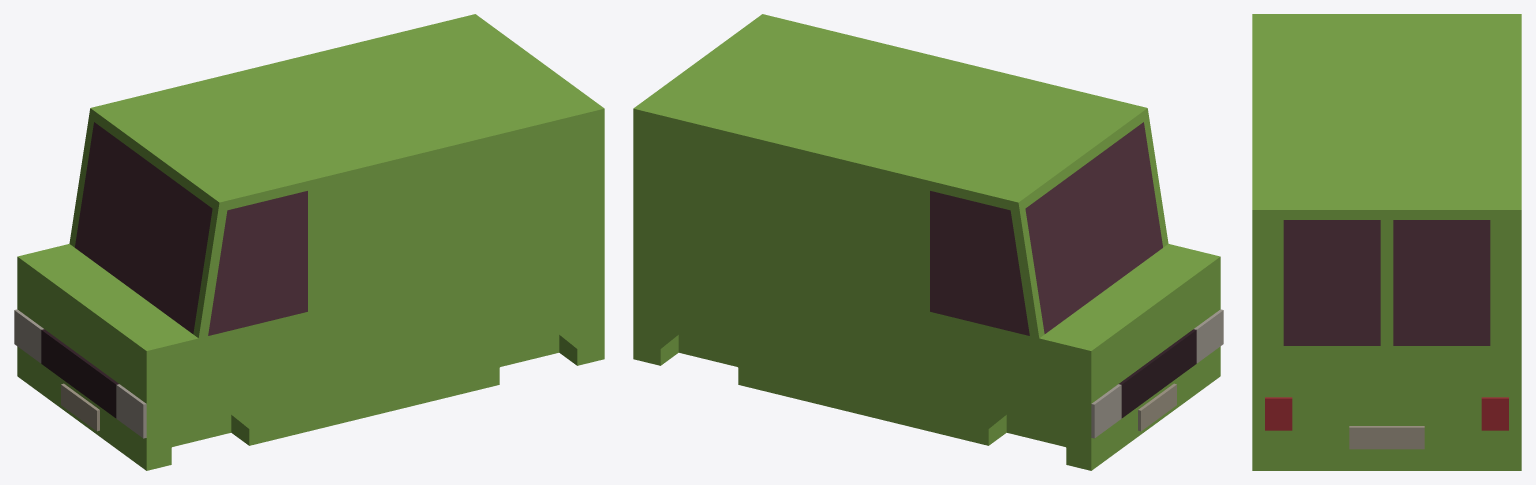
File: Van_Green.fbx
The picture shows the model from 3 angles, left to right: view 1: azimuth 30°, elevation 25°; view 2: azimuth 150°, elevation 25°; view 3: azimuth 270°, elevation 25°; orthographic projection. The views are drawn at different scales.
Parts seen in each view (by area): view 1: Van_Green, Van_Lights; view 2: Van_Green, Van_Lights; view 3: Van_Green, Van_Lights.
Boxes of the visible parts, <box> form: Van_Green: <box>17,14,604,470</box>; Van_Lights: <box>14,309,146,438</box>; Van_Green: <box>633,14,1220,470</box>; Van_Lights: <box>1091,309,1223,438</box>; Van_Green: <box>1252,14,1521,470</box>; Van_Lights: <box>1265,397,1508,430</box>.
Size of the model in its own units: 4.46 by 2.3 by 2.15.
